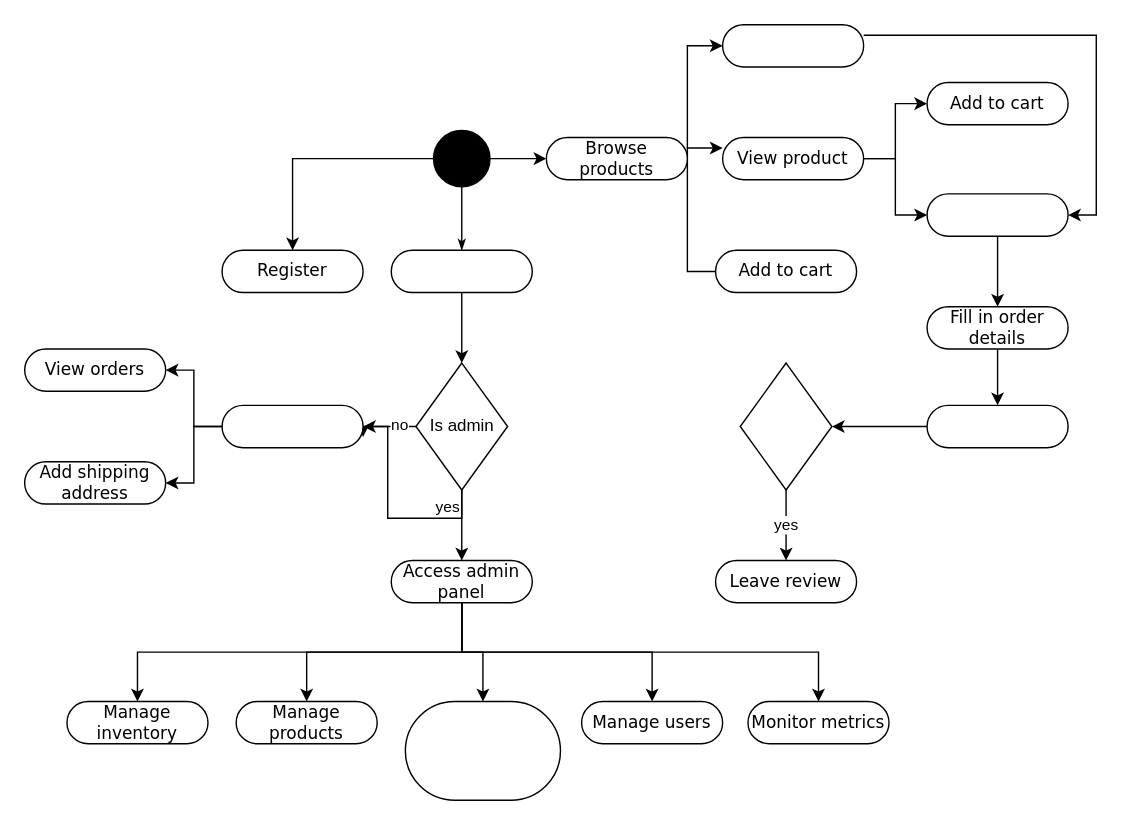
Image size: 1132x825. Some labels were removed from this diagram. Each missing label, with the box of its shape:
Access user profile: (221, 404, 363, 448)
Initiate checkout: (926, 192, 1068, 236)
Login: (390, 249, 532, 293)
Manage product categories and attributes: (404, 700, 560, 800)
Order delivered: (739, 362, 832, 490)
Place order: (926, 404, 1068, 448)
View cart: (721, 23, 864, 67)
